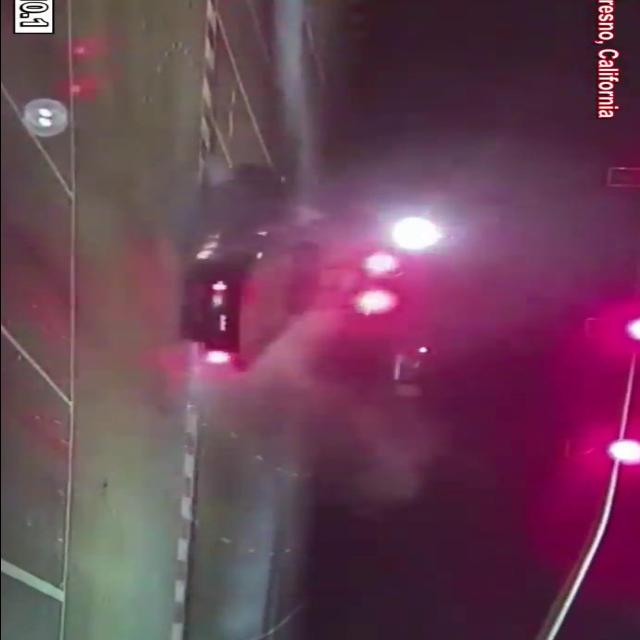accident: (169, 147, 412, 381)
